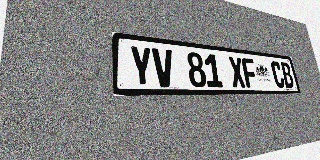1: (203, 53, 223, 87)
8: (186, 51, 207, 87)
B: (280, 62, 295, 88)
C: (270, 61, 286, 88)
F: (241, 58, 258, 88)
V: (152, 48, 175, 87)
X: (228, 56, 246, 87)
Y: (129, 45, 154, 87)
